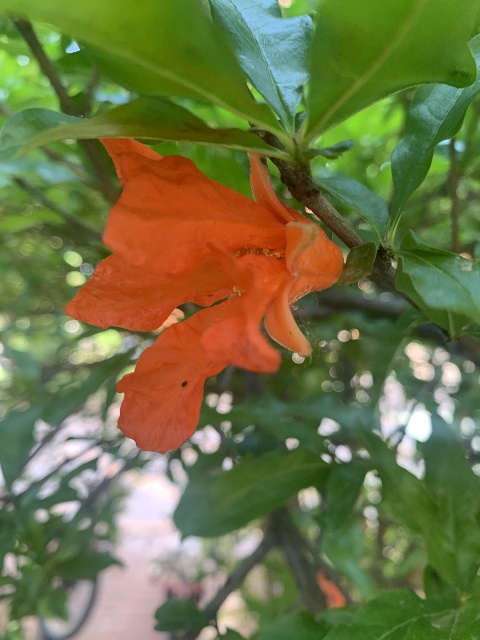flower: (66, 138, 342, 457)
